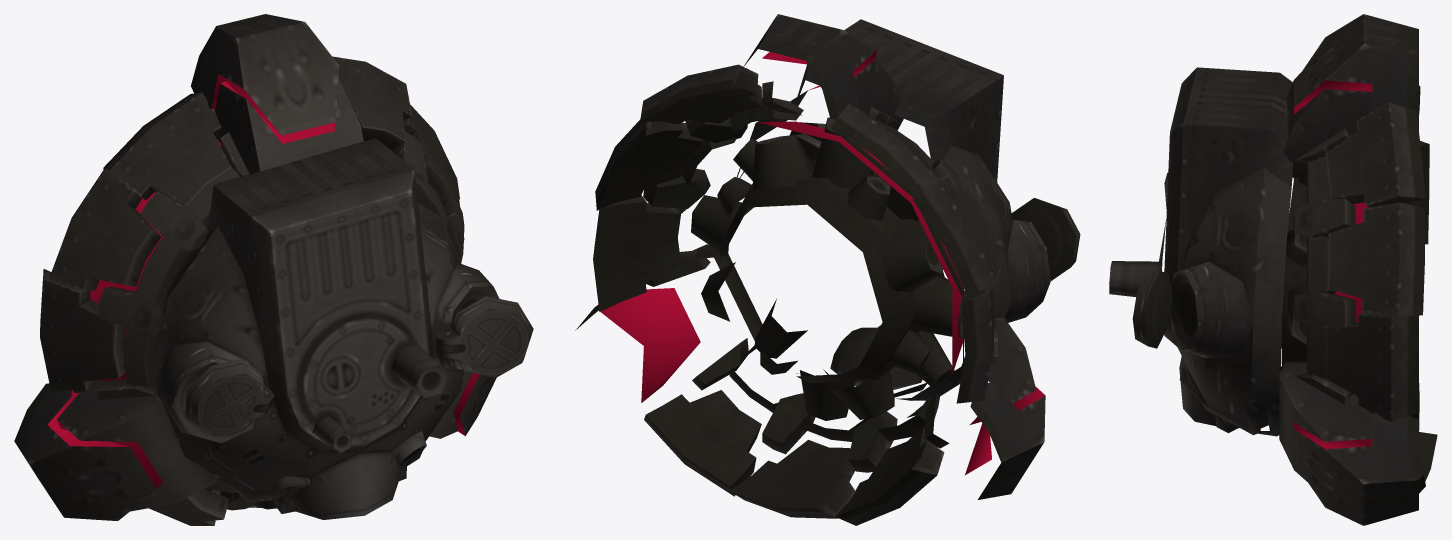
Rendered from model_broke.glb.
3 renders of one model, left to right at view 1: azimuth 30°, elevation 25°; view 2: azimuth 150°, elevation 25°; view 3: azimuth 270°, elevation 25°, orthographic. The views are drawn at different scales.
Parts seen in each view (by area): view 1: blastcore.model_broke-MeshNodes["mesh_head"], blastcore.model_broke-MeshNodes["mesh_foot"], blastcore.model_broke-MeshNodes["mesh_thigh"], blastcore.model_broke-MeshNodes["mesh_plate_20"], blastcore.model_broke-MeshNodes["mesh_bolts"], blastcore.model_broke-MeshNodes["mesh_plate_21"], blastcore.model_broke-MeshNodes["mesh_plate_22"], blastcore.model_broke-MeshNodes["mesh_lid_l"], blastcore.model_broke-MeshNodes["mesh_base"], blastcore.model_broke-MeshNodes["mesh_lid_r"], blastcore.model_broke-MeshNodes["mesh_plate_12"], blastcore.model_broke-MeshNodes["mesh_plate_11"] (+4 smaller); view 2: blastcore.model_broke-MeshNodes["mesh_guns"], blastcore.model_broke-MeshNodes["mesh_head"], blastcore.model_broke-MeshNodes["mesh_foot"], blastcore.model_broke-MeshNodes["mesh_bolts"], blastcore.model_broke-MeshNodes["mesh_plate_10"], blastcore.model_broke-MeshNodes["mesh_plate_02"], blastcore.model_broke-MeshNodes["mesh_plate_01"], blastcore.model_broke-MeshNodes["mesh_foot_in"], blastcore.model_broke-MeshNodes["mesh_thigh"], blastcore.model_broke-MeshNodes["mesh_plate_21"], blastcore.model_broke-MeshNodes["mesh_plate_11"], blastcore.model_broke-MeshNodes["mesh_plate_12"] (+8 smaller); view 3: blastcore.model_broke-MeshNodes["mesh_head"], blastcore.model_broke-MeshNodes["mesh_foot"], blastcore.model_broke-MeshNodes["mesh_thigh"], blastcore.model_broke-MeshNodes["mesh_plate_11"], blastcore.model_broke-MeshNodes["mesh_plate_10"], blastcore.model_broke-MeshNodes["mesh_plate_12"], blastcore.model_broke-MeshNodes["mesh_bolts"], blastcore.model_broke-MeshNodes["mesh_guns"], blastcore.model_broke-MeshNodes["mesh_base"], blastcore.model_broke-MeshNodes["mesh_lid_l"], blastcore.model_broke-MeshNodes["mesh_foot_in"], blastcore.model_broke-MeshNodes["mesh_plate_01"] (+2 smaller).
Part boxes in pixels (box(x1,y1,x2,y2)): blastcore.model_broke-MeshNodes["mesh_head"]: box(154, 138, 499, 519); blastcore.model_broke-MeshNodes["mesh_foot"]: box(14, 14, 496, 520); blastcore.model_broke-MeshNodes["mesh_thigh"]: box(57, 79, 472, 511); blastcore.model_broke-MeshNodes["mesh_plate_20"]: box(103, 92, 231, 207); blastcore.model_broke-MeshNodes["mesh_bolts"]: box(97, 131, 464, 510); blastcore.model_broke-MeshNodes["mesh_plate_21"]: box(49, 168, 161, 290); blastcore.model_broke-MeshNodes["mesh_plate_22"]: box(40, 269, 125, 392); blastcore.model_broke-MeshNodes["mesh_lid_l"]: box(435, 296, 533, 377); blastcore.model_broke-MeshNodes["mesh_base"]: box(103, 141, 447, 493); blastcore.model_broke-MeshNodes["mesh_lid_r"]: box(185, 359, 274, 435); blastcore.model_broke-MeshNodes["mesh_plate_12"]: box(332, 56, 412, 150); blastcore.model_broke-MeshNodes["mesh_plate_11"]: box(403, 104, 459, 208); blastcore.model_broke-MeshNodes["mesh_guns"]: box(691, 117, 966, 420); blastcore.model_broke-MeshNodes["mesh_head"]: box(737, 19, 1050, 417); blastcore.model_broke-MeshNodes["mesh_foot"]: box(575, 14, 1045, 499); blastcore.model_broke-MeshNodes["mesh_bolts"]: box(643, 81, 998, 472); blastcore.model_broke-MeshNodes["mesh_plate_10"]: box(593, 195, 680, 311); blastcore.model_broke-MeshNodes["mesh_plate_02"]: box(644, 390, 761, 496); blastcore.model_broke-MeshNodes["mesh_plate_01"]: box(730, 440, 855, 518); blastcore.model_broke-MeshNodes["mesh_foot_in"]: box(597, 50, 1045, 425); blastcore.model_broke-MeshNodes["mesh_thigh"]: box(645, 59, 1036, 403); blastcore.model_broke-MeshNodes["mesh_plate_21"]: box(913, 175, 1000, 296); blastcore.model_broke-MeshNodes["mesh_plate_11"]: box(595, 119, 703, 210); blastcore.model_broke-MeshNodes["mesh_plate_12"]: box(640, 64, 762, 124); blastcore.model_broke-MeshNodes["mesh_head"]: box(1109, 67, 1293, 436); blastcore.model_broke-MeshNodes["mesh_foot"]: box(1294, 14, 1418, 525); blastcore.model_broke-MeshNodes["mesh_thigh"]: box(1279, 73, 1372, 481); blastcore.model_broke-MeshNodes["mesh_plate_11"]: box(1327, 202, 1424, 316); blastcore.model_broke-MeshNodes["mesh_plate_10"]: box(1325, 312, 1418, 421); blastcore.model_broke-MeshNodes["mesh_plate_12"]: box(1325, 102, 1425, 207); blastcore.model_broke-MeshNodes["mesh_bolts"]: box(1293, 128, 1355, 404); blastcore.model_broke-MeshNodes["mesh_guns"]: box(1281, 177, 1306, 370); blastcore.model_broke-MeshNodes["mesh_base"]: box(1307, 113, 1418, 419); blastcore.model_broke-MeshNodes["mesh_lid_l"]: box(1132, 271, 1172, 348); blastcore.model_broke-MeshNodes["mesh_foot_in"]: box(1294, 80, 1372, 449); blastcore.model_broke-MeshNodes["mesh_plate_01"]: box(1419, 432, 1437, 481).
Size of the model in its own units: 4.63 by 4.52 by 2.96.
2 materials, 2 textured.
